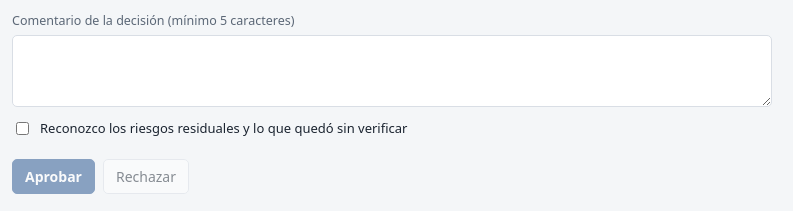
Test case: formulario de decisión › no permite aprobar sin comentario ni sin reconocer los riesgos
expect the button "Aprobar" is disabled: met, box [12,158,95,194]
Type "Revisado el reporte" into the text box labelled "Comentario de la decisión (mínimo 5 caracteres)".
click(392, 71); type("Revisado el reporte")  # box [12,35,772,107]
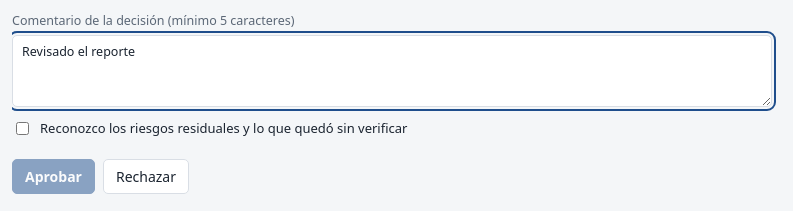
expect the button "Aprobar" is disabled: met, box [12,158,95,194]
Click the checkbox labelled "Reconozco los riesgos residuales".
click(22, 129)  # box [16,122,29,135]
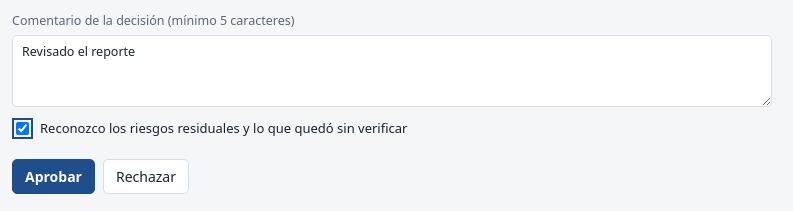
expect the button "Aprobar" is enabled: met, box [12,158,95,194]
